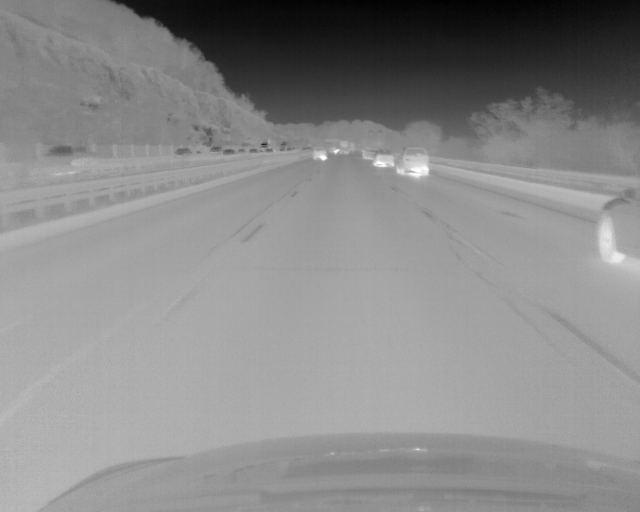car: (596, 186, 640, 265), (40, 143, 89, 163), (396, 149, 428, 176), (373, 150, 393, 167), (313, 147, 326, 160), (175, 147, 191, 155)
